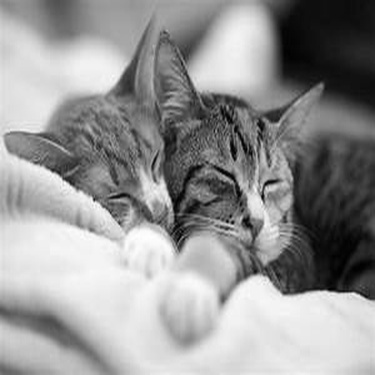cat: (153, 31, 374, 304), (1, 31, 185, 263)
